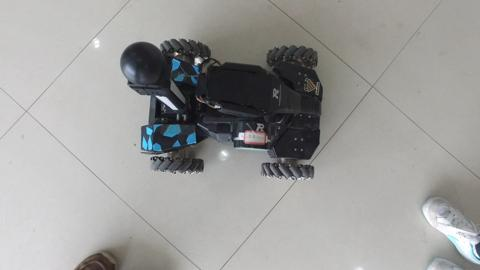chariot: (120, 31, 325, 182)
